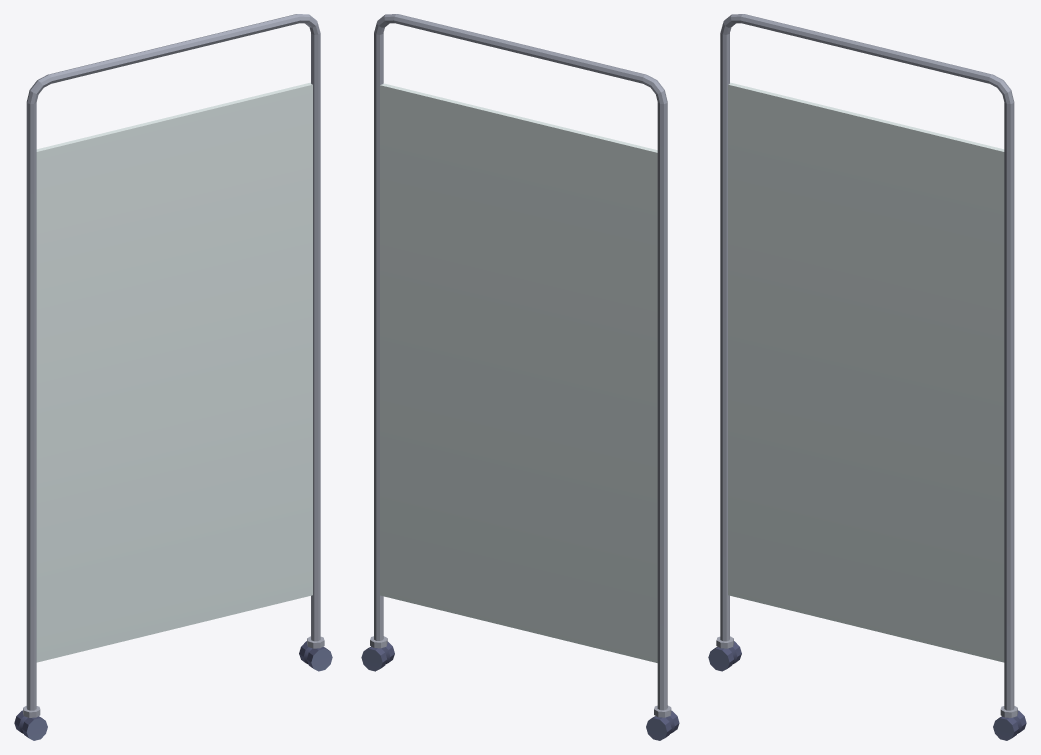
The model's file is cover_plate.fbx.
3 renders of one model, left to right at view 1: azimuth 30°, elevation 25°; view 2: azimuth 150°, elevation 25°; view 3: azimuth 330°, elevation 25°, orthographic.
Parts seen in each view (by area): view 1: cover_plate; view 2: cover_plate; view 3: cover_plate.
Part boxes in pixels (x1,y1,x2,y2): cover_plate: (14, 14, 332, 740); cover_plate: (361, 14, 679, 740); cover_plate: (708, 14, 1026, 740).
Bounding box in the file's own units: 154 × 317 × 10.77.
